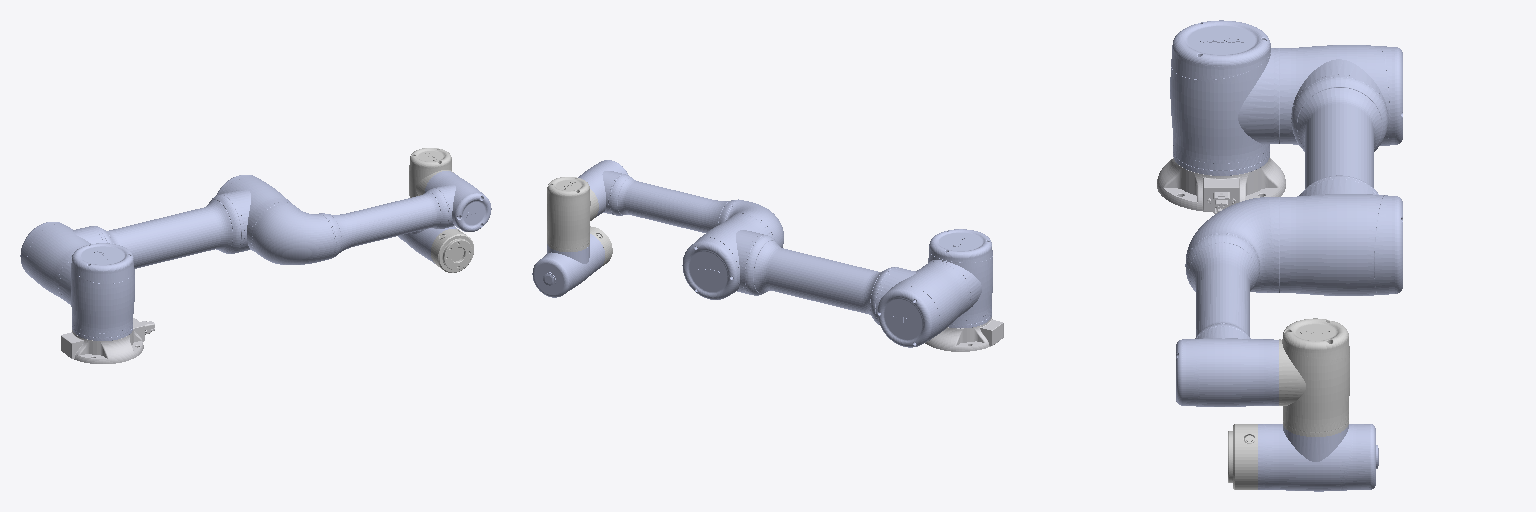
The robot description file, URDF, robot "jaka_a5":
<?xml version="1.0" encoding="utf-8"?>
<!-- This URDF was automatically created by SolidWorks to URDF Exporter! Originally created by [author] ([email redacted]) 
     Commit Version: 1.6.0-4-g7f85cfe  Build Version: 1.6.7995.38578
     For more information, please see http://wiki.ros.org/sw_urdf_exporter -->
<robot
  name="jaka_a5">

  <!-- LINK -->
  <link name="world" />

  <link
    name="base_link">
    <inertial>
      <origin
        xyz="0.0028167 -0.00019454 0.019544"
        rpy="0 0 0" />
      <mass
        value="0.52663" />
      <inertia
        ixx="0.0006297"
        ixy="6.7091E-08"
        ixz="3.4682E-06"
        iyy="0.00095727"
        iyz="2.4476E-07"
        izz="0.0014514" />
    </inertial>
    <visual>
      <origin
        xyz="0 0 0"
        rpy="0 0 0" />
      <geometry>
        <mesh
          filename="package://jaka_description/meshes/jaka_a5_meshes/base_link.STL" />
      </geometry>
      <material
        name="">
        <color
          rgba="0.86667 0.86667 0.8902 1" />
      </material>
    </visual>
    <collision>
      <origin
        xyz="0 0 0"
        rpy="0 0 0" />
      <geometry>
        <mesh
          filename="package://jaka_description/meshes/jaka_a5_meshes/base_link.STL" />
      </geometry>
    </collision>
  </link>

  <!-- JOINT -->
  <joint name="fixed" type="fixed">
     <parent link="world"/>
     <child link="base_link"/>
  </joint>

  <link
    name="J1">
    <inertial>
      <origin
        xyz="-2.5186E-07 0.0033226 -0.001509"
        rpy="0 0 0" />
      <mass
        value="15.135" />
      <inertia
        ixx="0.044302"
        ixy="1.5349E-07"
        ixz="-6.1966E-07"
        iyy="0.043091"
        iyz="1.4326E-05"
        izz="0.030523" />
    </inertial>
    <visual>
      <origin
        xyz="0 0 0"
        rpy="0 0 0" />
      <geometry>
        <mesh
          filename="package://jaka_description/meshes/jaka_a5_meshes/J1.STL" />
      </geometry>
      <material
        name="">
        <color
          rgba="0.79216 0.81961 0.93333 1" />
      </material>
    </visual>
    <collision>
      <origin
        xyz="0 0 0"
        rpy="0 0 0" />
      <geometry>
        <mesh
          filename="package://jaka_description/meshes/jaka_a5_meshes/J1.STL" />
      </geometry>
    </collision>
  </link>
  <joint
    name="joint_1"
    type="revolute">
    <origin
      xyz="0 -0.00022535 0.12015"
      rpy="0 0 0" />
    <parent
      link="base_link" />
    <child
      link="J1" />
    <axis
      xyz="0 0 1" />
    <limit
      lower="-6.28"
      upper="6.28"
      effort="2000"
      velocity="1.57" />
  </joint>
  <link
    name="J2">
    <inertial>
      <origin
        xyz="0.215 4.9016E-09 -0.14314"
        rpy="0 0 0" />
      <mass
        value="5.7891" />
      <inertia
        ixx="0.013095"
        ixy="-4.1856E-09"
        ixz="2.9241E-08"
        iyy="0.20279"
        iyz="2.1723E-09"
        izz="0.19928" />
    </inertial>
    <visual>
      <origin
        xyz="0 0 0"
        rpy="0 0 0" />
      <geometry>
        <mesh
          filename="package://jaka_description/meshes/jaka_a5_meshes/J2.STL" />
      </geometry>
      <material
        name="">
        <color
          rgba="0.79216 0.81961 0.93333 1" />
      </material>
    </visual>
    <collision>
      <origin
        xyz="0 0 0"
        rpy="0 0 0" />
      <geometry>
        <mesh
          filename="package://jaka_description/meshes/jaka_a5_meshes/J2.STL" />
      </geometry>
    </collision>
  </link>
  <joint
    name="joint_2"
    type="revolute">
    <origin
      xyz="0 0 0"
      rpy="1.5708 0 0" />
    <parent
      link="J1" />
    <child
      link="J2" />
    <axis
      xyz="0 0 1" />
    <limit
      lower="-1.48"
      upper="4.62"
      effort="5000"
      velocity="1.57" />
  </joint>
  <link
    name="J3">
    <inertial>
      <origin
        xyz="0.17601 -7.8489E-07 -0.0097984"
        rpy="0 0 0" />
      <mass
        value="2.5808" />
      <inertia
        ixx="0.0032112"
        ixy="1.1156E-07"
        ixz="-0.0022739"
        iyy="0.05921"
        iyz="3.3121E-08"
        izz="0.058511" />
    </inertial>
    <visual>
      <origin
        xyz="0 0 0"
        rpy="0 0 0" />
      <geometry>
        <mesh
          filename="package://jaka_description/meshes/jaka_a5_meshes/J3.STL" />
      </geometry>
      <material
        name="">
        <color
          rgba="0.79216 0.81961 0.93333 1" />
      </material>
    </visual>
    <collision>
      <origin
        xyz="0 0 0"
        rpy="0 0 0" />
      <geometry>
        <mesh
          filename="package://jaka_description/meshes/jaka_a5_meshes/J3.STL" />
      </geometry>
    </collision>
  </link>
  <joint
    name="joint_3"
    type="revolute">
    <origin
      xyz="0.43 0 0"
      rpy="0 0 0" />
    <parent
      link="J2" />
    <child
      link="J3" />
    <axis
      xyz="0 0 1" />
    <limit
      lower="-3.05"
      upper="3.05"
      effort="5000"
      velocity="1.57" />
  </joint>
  <link
    name="J4">
    <inertial>
      <origin
        xyz="-2.1463E-06 -0.0059512 0.0026789"
        rpy="0 0 0" />
      <mass
        value="5.5377" />
      <inertia
        ixx="0.0092004"
        ixy="1.17E-07"
        ixz="-1.3683E-08"
        iyy="0.0052083"
        iyz="-8.5741E-05"
        izz="0.0089125" />
    </inertial>
    <visual>
      <origin
        xyz="0 0 0"
        rpy="0 0 0" />
      <geometry>
        <mesh
          filename="package://jaka_description/meshes/jaka_a5_meshes/J4.STL" />
      </geometry>
      <material
        name="">
        <color
          rgba="0.84706 0.84706 0.84706 1" />
      </material>
    </visual>
    <collision>
      <origin
        xyz="0 0 0"
        rpy="0 0 0" />
      <geometry>
        <mesh
          filename="package://jaka_description/meshes/jaka_a5_meshes/J4.STL" />
      </geometry>
    </collision>
  </link>
  <joint
    name="joint_4"
    type="revolute">
    <origin
      xyz="0.3685 0 -0.115"
      rpy="0 0 0" />
    <parent
      link="J3" />
    <child
      link="J4" />
    <axis
      xyz="0 0 1" />
    <limit
      lower="-1.48"
      upper="4.62"
      effort="2000"
      velocity="1.57" />
  </joint>
  <link
    name="J5">
    <inertial>
      <origin
        xyz="-2.2875E-08 -0.0015344 -0.0023275"
        rpy="0 0 0" />
      <mass
        value="0.81207" />
      <inertia
        ixx="0.0016825"
        ixy="2.829E-09"
        ixz="-1.1984E-08"
        iyy="0.00074766"
        iyz="3.2415E-06"
        izz="0.0016452" />
    </inertial>
    <visual>
      <origin
        xyz="0 0 0"
        rpy="0 0 0" />
      <geometry>
        <mesh
          filename="package://jaka_description/meshes/jaka_a5_meshes/J5.STL" />
      </geometry>
      <material
        name="">
        <color
          rgba="0.79216 0.81961 0.93333 1" />
      </material>
    </visual>
    <collision>
      <origin
        xyz="0 0 0"
        rpy="0 0 0" />
      <geometry>
        <mesh
          filename="package://jaka_description/meshes/jaka_a5_meshes/J5.STL" />
      </geometry>
    </collision>
  </link>
  <joint
    name="joint_5"
    type="revolute">
    <origin
      xyz="0 -0.1135 0"
      rpy="1.5708 -0.00010901 0" />
    <parent
      link="J4" />
    <child
      link="J5" />
    <axis
      xyz="0 0 1" />
    <limit
      lower="-6.28"
      upper="6.28"
      effort="3000"
      velocity="1.57" />
  </joint>
  <link
    name="J6">
    <inertial>
      <origin
        xyz="3.1532E-05 -1.4302E-05 -0.02023"
        rpy="0 0 0" />
      <mass
        value="1.336" />
      <inertia
        ixx="0.00066124"
        ixy="-6.979E-07"
        ixz="-6.4232E-07"
        iyy="0.00066646"
        iyz="8.1119E-07"
        izz="0.0010673" />
    </inertial>
    <visual>
      <origin
        xyz="0 0 0"
        rpy="0 0 0" />
      <geometry>
        <mesh
          filename="package://jaka_description/meshes/jaka_a5_meshes/J6.STL" />
      </geometry>
      <material
        name="">
        <color
          rgba="0.84706 0.84706 0.84706 1" />
      </material>
    </visual>
    <collision>
      <origin
        xyz="0 0 0"
        rpy="0 0 0" />
      <geometry>
        <mesh
          filename="package://jaka_description/meshes/jaka_a5_meshes/J6.STL" />
      </geometry>
    </collision>
  </link>
  <joint
    name="joint_6"
    type="revolute">
    <origin
      xyz="0 0.107 0"
      rpy="-1.5708 0 -0.00010901" />
    <parent
      link="J5" />
    <child
      link="J6" />
    <axis
      xyz="-0.00010901 0 1" />
    <limit
      lower="-6.28"
      upper="6.28"
      effort="1000"
      velocity="1.57" />
  </joint>

  <transmission name="trans_joint_1">
        <type>transmission_interface/SimpleTransmission</type>
        <joint name="joint_1">
            <hardwareInterface>hardware_interface/PositionJointInterface</hardwareInterface>
        </joint>
        <actuator name="joint_1_motor">
            <hardwareInterface>hardware_interface/PositionJointInterface</hardwareInterface>
            <mechanicalReduction>1</mechanicalReduction>
        </actuator>
    </transmission>
    <transmission name="trans_joint_2">
        <type>transmission_interface/SimpleTransmission</type>
        <joint name="joint_2">
            <hardwareInterface>hardware_interface/PositionJointInterface</hardwareInterface>
        </joint>
        <actuator name="joint_2_motor">
            <hardwareInterface>hardware_interface/PositionJointInterface</hardwareInterface>
            <mechanicalReduction>1</mechanicalReduction>
        </actuator>
    </transmission>
    <transmission name="trans_joint_3">
        <type>transmission_interface/SimpleTransmission</type>
        <joint name="joint_3">
            <hardwareInterface>hardware_interface/PositionJointInterface</hardwareInterface>
        </joint>
        <actuator name="joint_3_motor">
            <hardwareInterface>hardware_interface/PositionJointInterface</hardwareInterface>
            <mechanicalReduction>1</mechanicalReduction>
        </actuator>
    </transmission>
    <transmission name="trans_joint_4">
        <type>transmission_interface/SimpleTransmission</type>
        <joint name="joint_4">
            <hardwareInterface>hardware_interface/PositionJointInterface</hardwareInterface>
        </joint>
        <actuator name="joint_4_motor">
            <hardwareInterface>hardware_interface/PositionJointInterface</hardwareInterface>
            <mechanicalReduction>1</mechanicalReduction>
        </actuator>
    </transmission>
    <transmission name="trans_joint_5">
        <type>transmission_interface/SimpleTransmission</type>
        <joint name="joint_5">
            <hardwareInterface>hardware_interface/PositionJointInterface</hardwareInterface>
        </joint>
        <actuator name="joint_5_motor">
            <hardwareInterface>hardware_interface/PositionJointInterface</hardwareInterface>
            <mechanicalReduction>1</mechanicalReduction>
        </actuator>
    </transmission>
    <transmission name="trans_joint_6">
        <type>transmission_interface/SimpleTransmission</type>
        <joint name="joint_6">
            <hardwareInterface>hardware_interface/PositionJointInterface</hardwareInterface>
        </joint>
        <actuator name="joint_6_motor">
            <hardwareInterface>hardware_interface/PositionJointInterface</hardwareInterface>
            <mechanicalReduction>1</mechanicalReduction>
        </actuator>
    </transmission>
    <gazebo>
        <plugin name="gazebo_ros_control" filename="libgazebo_ros_control.so">
            <robotNamespace>/</robotNamespace>
        </plugin>
    </gazebo>

</robot>

--- What the picture shows (computed from the rendered views, not written in the file) ---
Views: 3 orthographic renders of the robot side by side, from view 1: azimuth 30°, elevation 25°; view 2: azimuth 150°, elevation 25°; view 3: azimuth 270°, elevation 25°.
Model jaka_a5 with 8 links and 7 joints (6 revolute, 1 fixed), rooted at world, posed all joints at 0.
Links seen in each view (by area): view 1: J2, J3, J1, base_link, J6, J4, J5; view 2: J2, J3, J1, J4, J5, base_link; view 3: J2, J3, J1, J4, J5, base_link, J6.
Link boxes in pixels (left/top/right/bottom): J2: left=20, top=175, right=294, bottom=300; J3: left=252, top=171, right=491, bottom=264; J1: left=60, top=243, right=134, bottom=340; base_link: left=61, top=318, right=154, bottom=363; J6: left=431, top=229, right=473, bottom=272; J4: left=409, top=148, right=453, bottom=197; J5: left=398, top=226, right=458, bottom=263; J2: left=682, top=214, right=970, bottom=347; J3: left=578, top=160, right=783, bottom=247; J1: left=928, top=229, right=992, bottom=328; J4: left=547, top=177, right=598, bottom=251; J5: left=532, top=234, right=604, bottom=297; base_link: left=925, top=317, right=1003, bottom=351; J2: left=1274, top=45, right=1402, bottom=295; J3: left=1176, top=197, right=1278, bottom=406; J1: left=1170, top=20, right=1273, bottom=175; J4: left=1279, top=318, right=1349, bottom=436; J5: left=1258, top=424, right=1378, bottom=491; base_link: left=1157, top=157, right=1285, bottom=213; J6: left=1228, top=424, right=1257, bottom=489.
Bounding box of the posed robot: 0.9227 × 0.3007 × 0.2332 m (x, y, z).
7 mesh visuals loaded from 7 distinct referenced files (7 binary STL).
